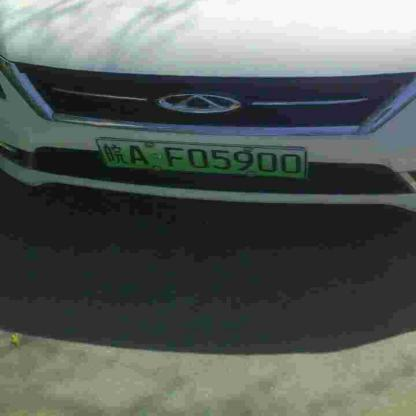lp: (94, 138, 306, 180)
